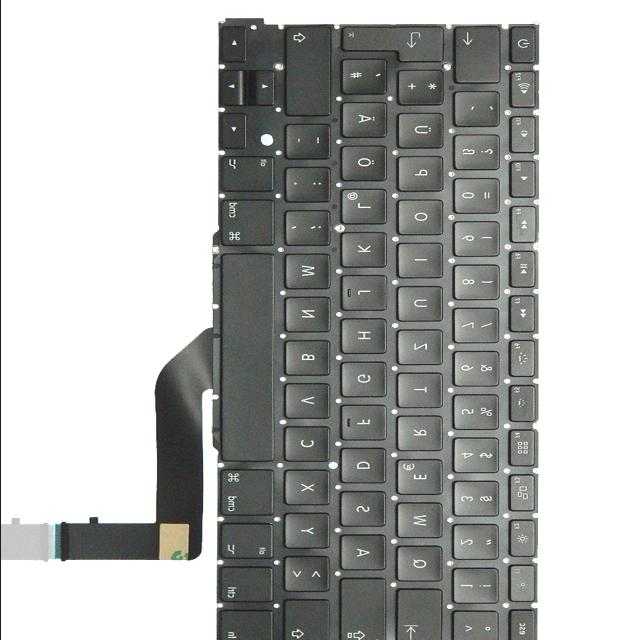0: (454, 178, 502, 216)
1: (453, 569, 501, 607)
2: (453, 525, 501, 563)
3: (453, 481, 501, 519)
4: (454, 438, 502, 475)
5: (454, 394, 502, 432)
6: (454, 351, 502, 389)
7: (454, 309, 502, 345)
8: (454, 265, 502, 303)
9: (454, 221, 502, 259)
a: (341, 535, 389, 573)
accent: (455, 92, 503, 130)
ae: (343, 103, 390, 141)
alt-left: (218, 524, 275, 562)
altgr-right: (219, 156, 277, 194)
b: (286, 340, 333, 378)
c: (284, 427, 332, 465)
caret: (454, 612, 503, 640)
comma: (286, 211, 333, 248)
d: (340, 448, 388, 486)
del: (455, 27, 503, 86)
e: (397, 460, 445, 498)
enter: (342, 23, 448, 65)
f: (342, 405, 390, 443)
g: (341, 363, 389, 400)
h: (342, 319, 390, 356)
hash: (343, 60, 390, 97)
i: (398, 244, 446, 280)
j: (342, 276, 390, 312)
k: (342, 232, 390, 270)
keyboard: (210, 16, 546, 640)
l: (341, 189, 389, 227)
less: (285, 557, 332, 595)
m: (286, 254, 334, 292)
minus: (286, 125, 333, 163)
n: (286, 297, 334, 335)
o: (398, 200, 446, 238)
oe: (341, 146, 389, 184)
p: (398, 156, 446, 194)
plus: (399, 71, 447, 108)
point: (287, 168, 333, 205)
q: (397, 547, 445, 585)
r: (397, 416, 445, 454)
s: (340, 491, 388, 529)
shift-left: (284, 600, 333, 640)
shift-lock: (341, 579, 389, 640)
shift-right: (286, 27, 334, 119)
space: (221, 253, 277, 464)
ss: (454, 135, 502, 173)
strg-left: (217, 567, 275, 606)
t: (398, 374, 446, 410)
tab: (397, 590, 445, 640)
u: (397, 287, 446, 325)
ue: (398, 113, 446, 151)
v: (285, 384, 333, 422)
w: (398, 503, 446, 541)
x: (286, 470, 333, 507)
y: (284, 513, 332, 551)
z: (398, 330, 446, 368)
